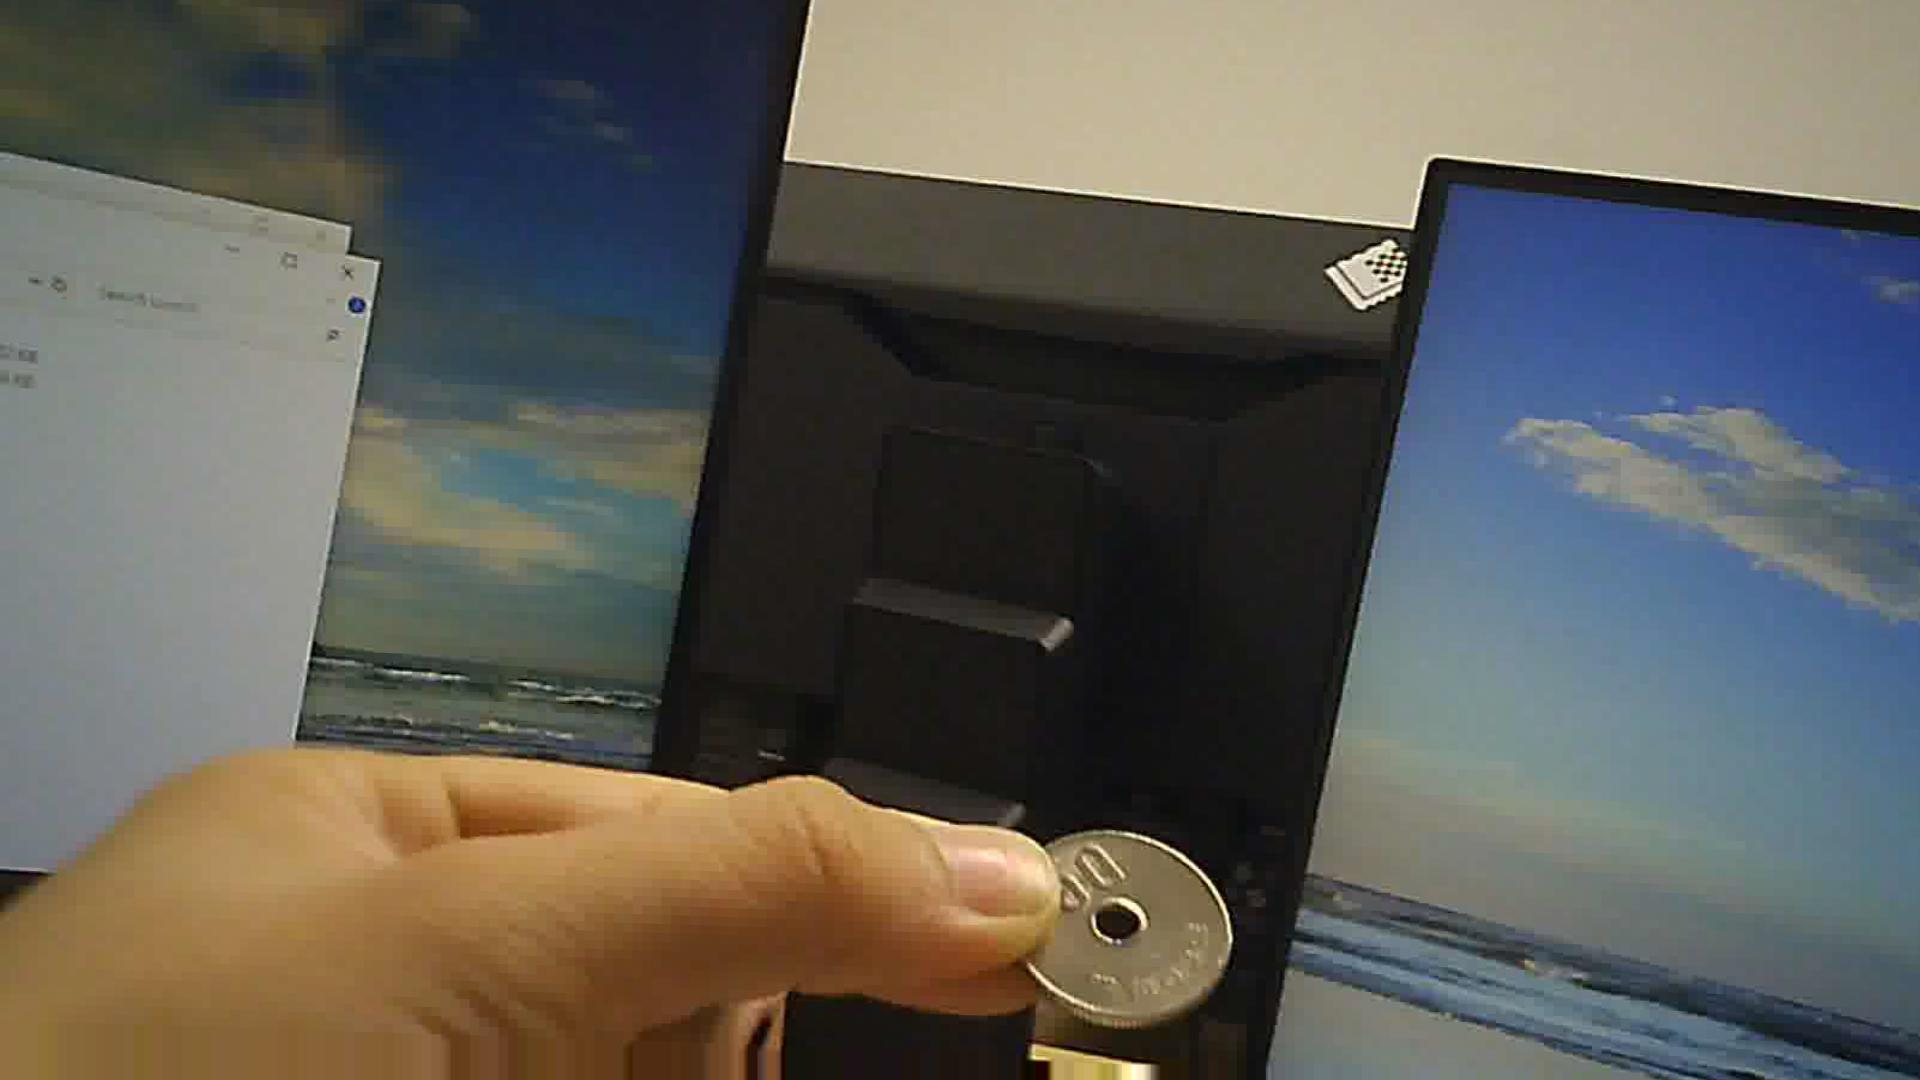50 Yen: (1011, 822, 1225, 1005)
